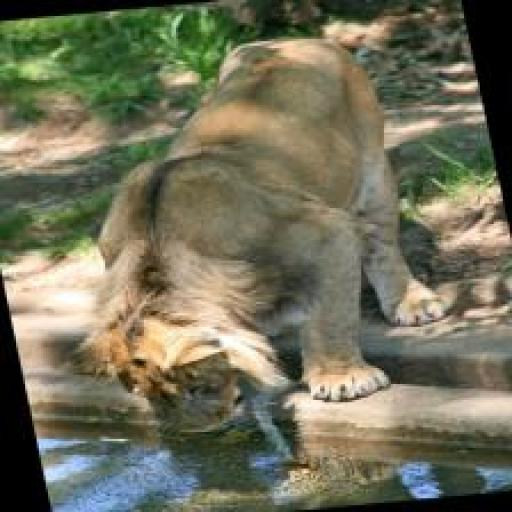lion: (0, 25, 470, 449)
